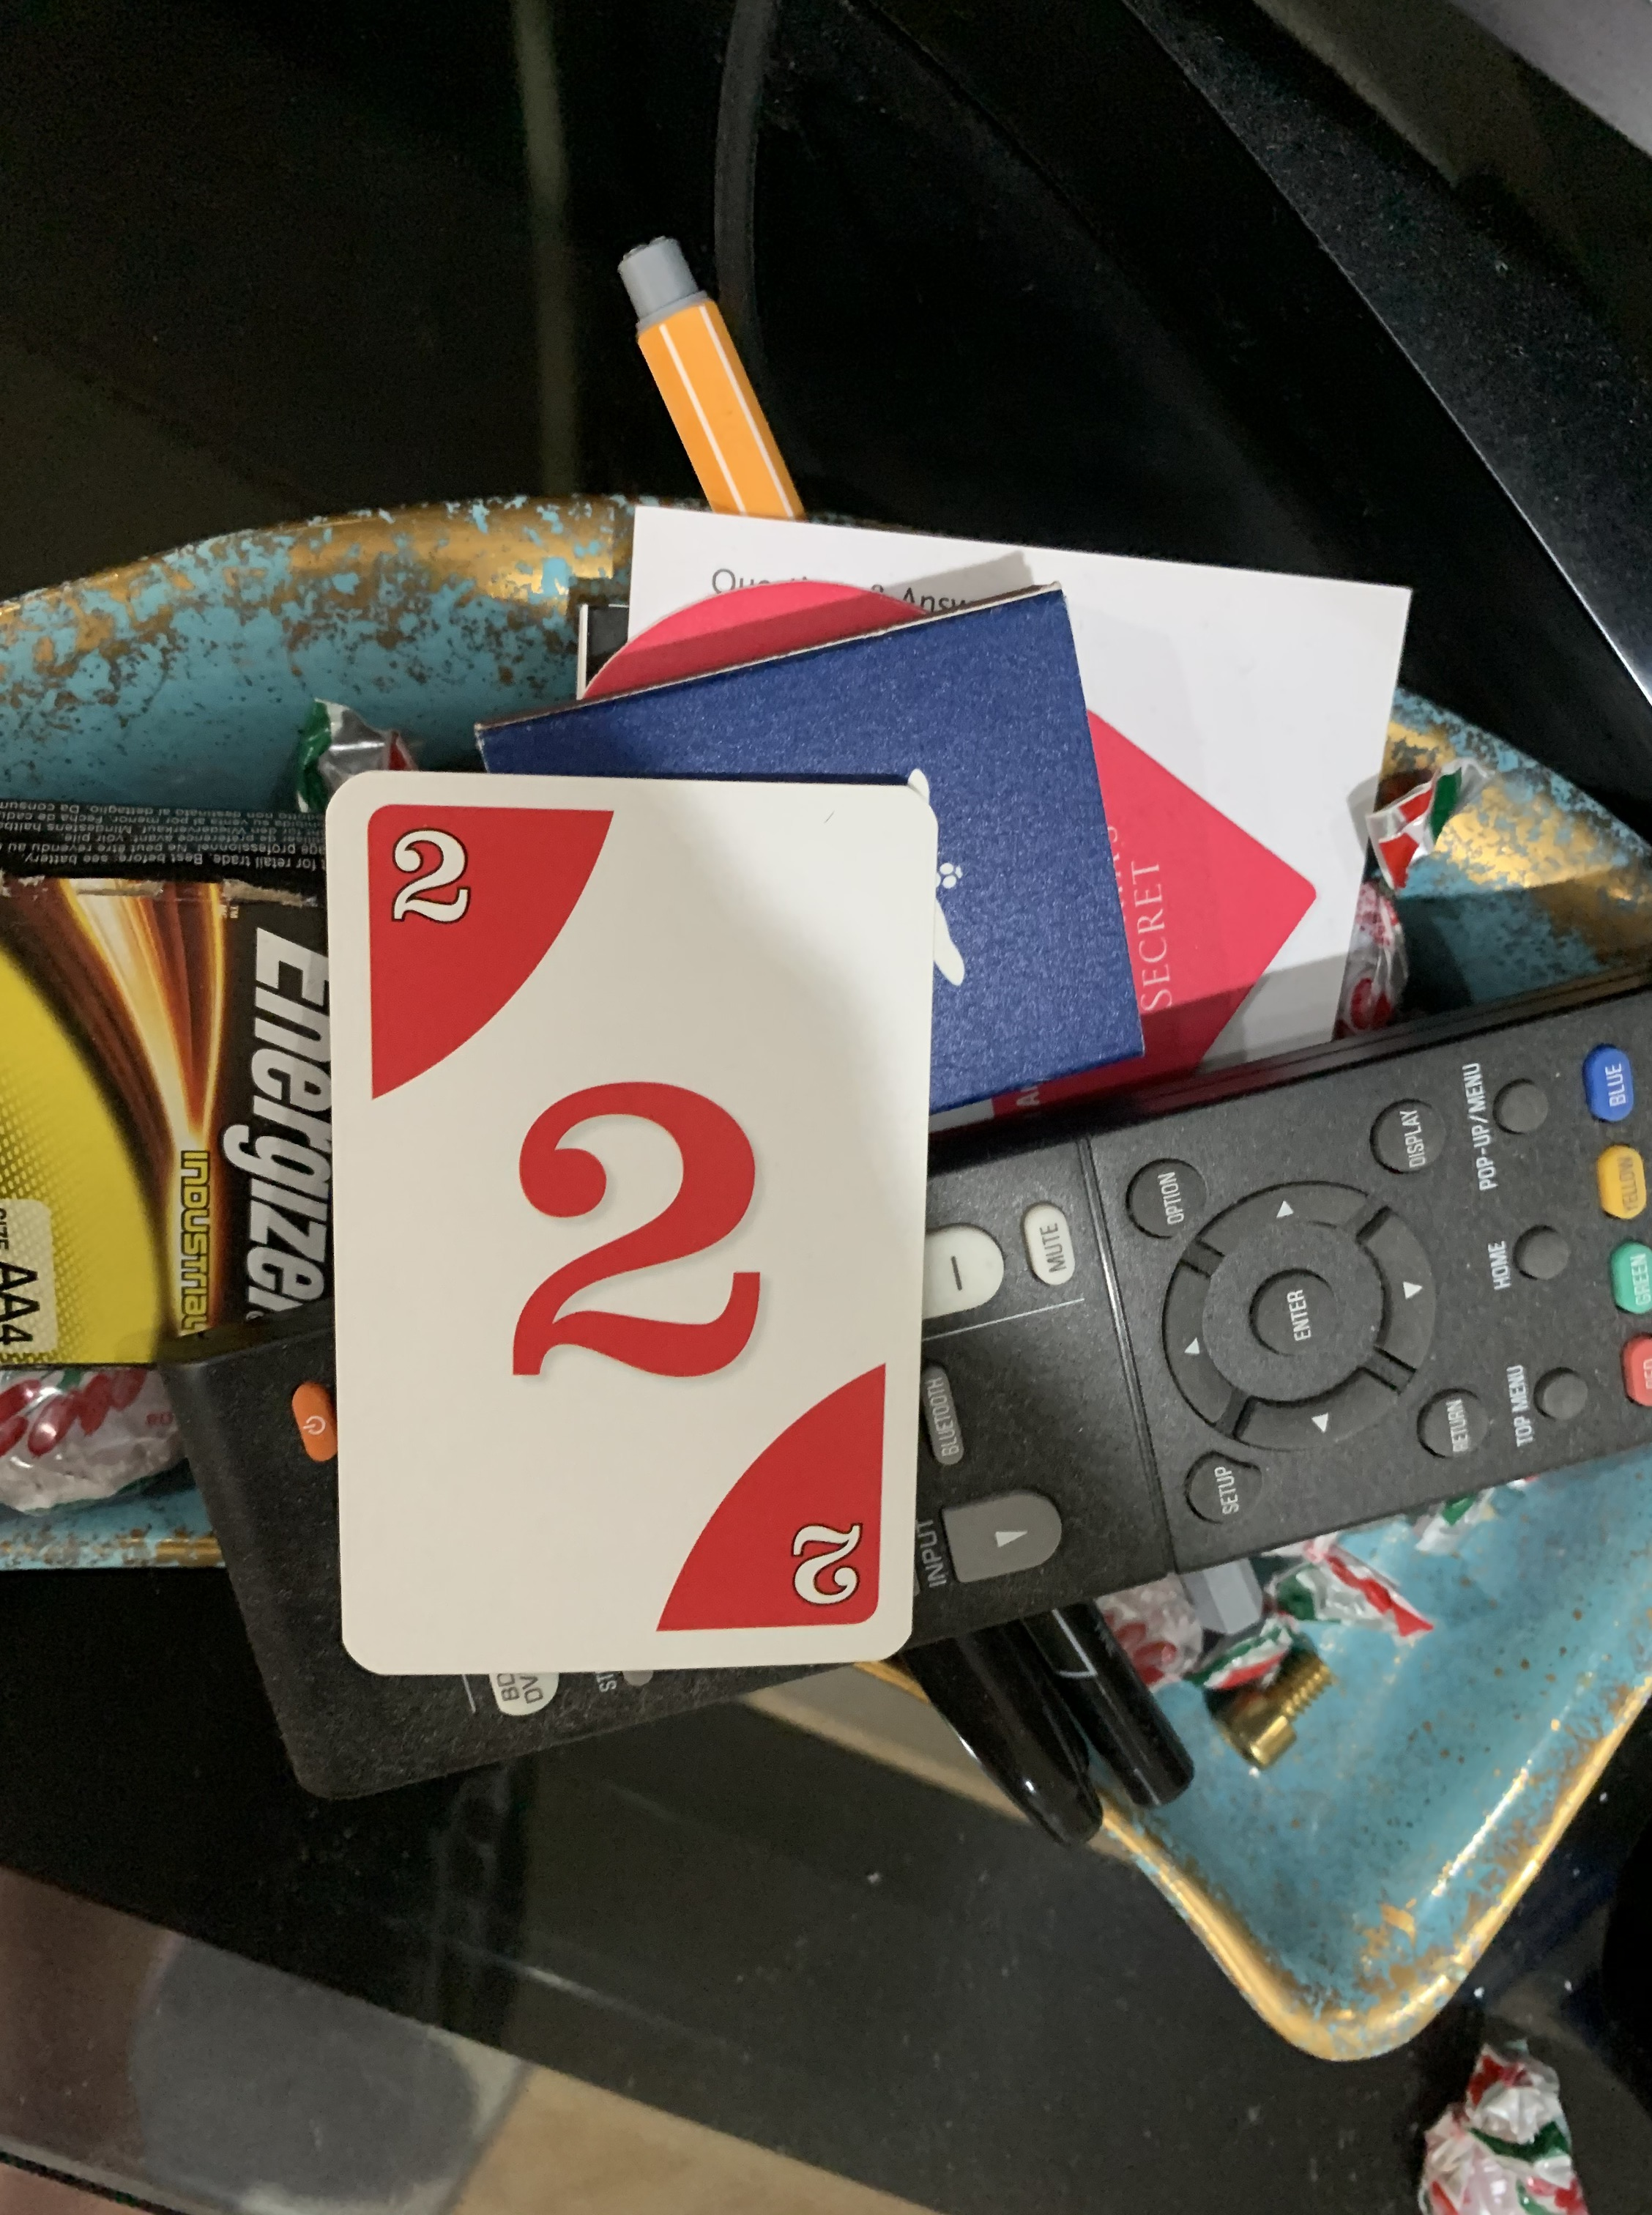two: (290, 755, 954, 1705)
